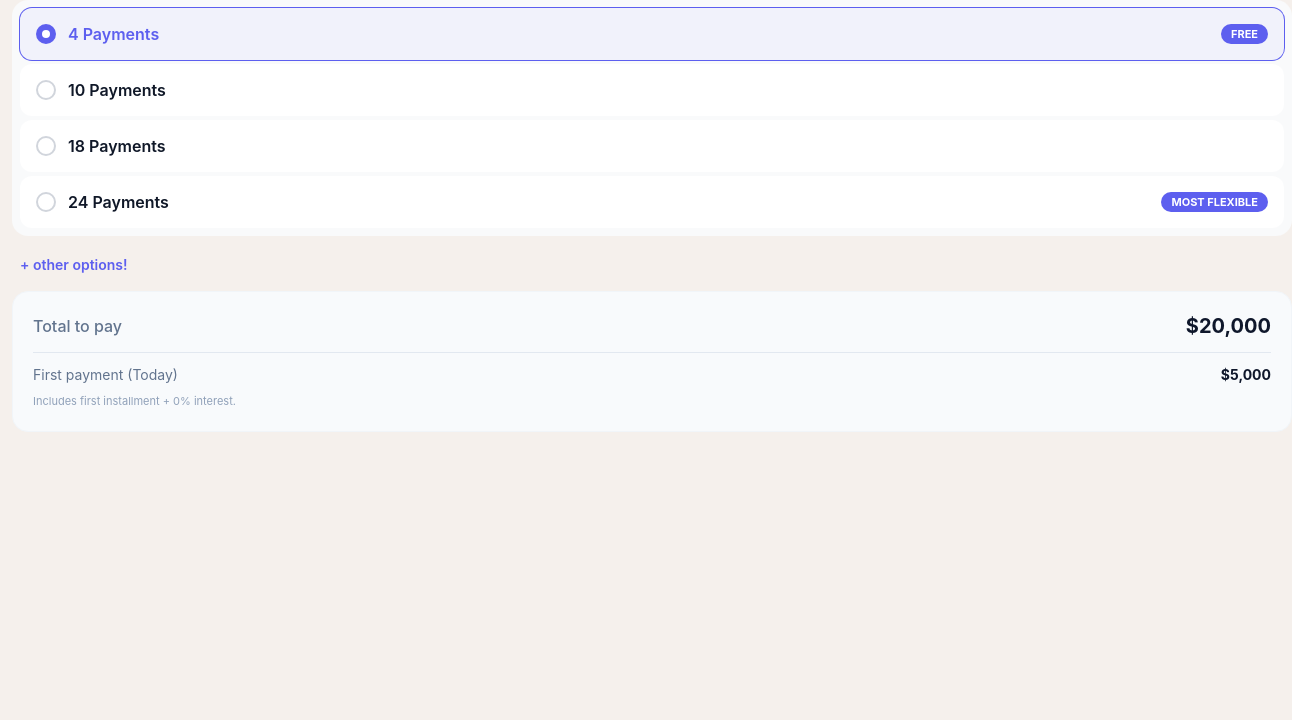
PlanSelector Component › shows secondary terms after clicking "+ other options!"
Click the button with test id "expand-other-options": (70, 265) [12, 255, 128, 275]
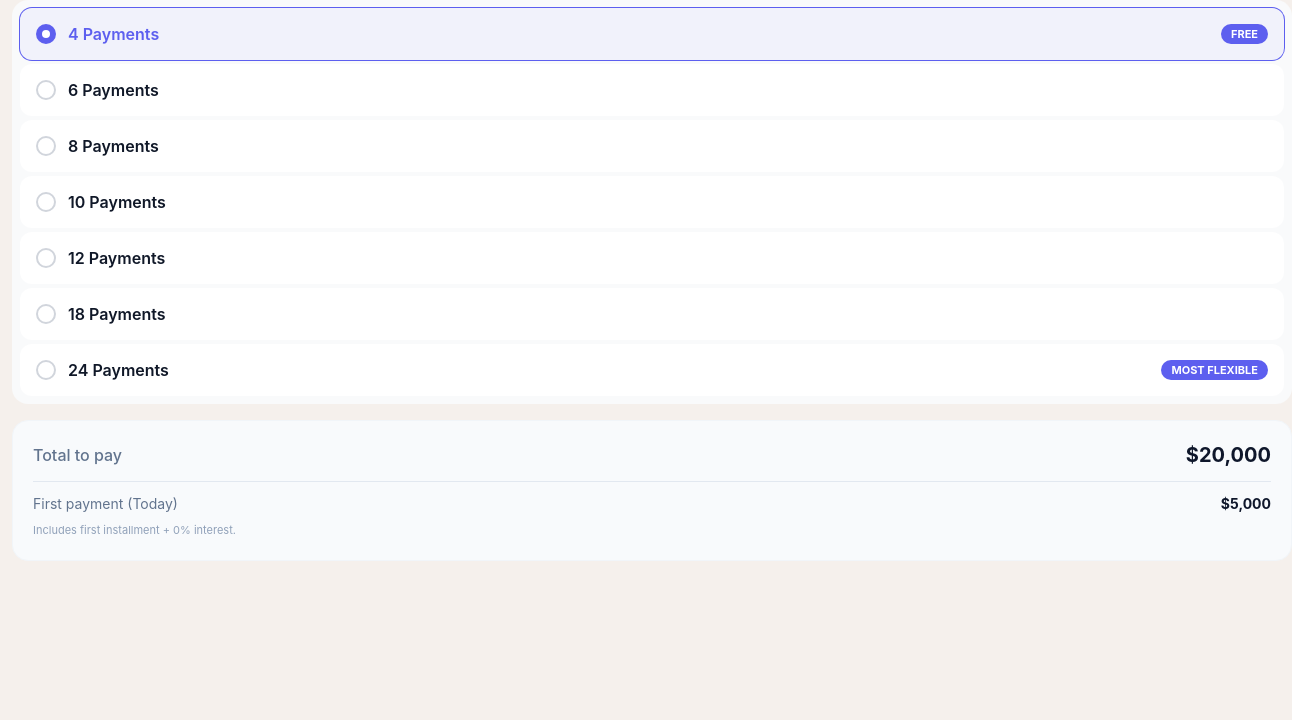
Check: the button with test id "plan-option-6" is shown, box [20, 64, 1284, 116]
Check: the button with test id "plan-option-8" is shown, box [20, 120, 1284, 172]
Check: the button with test id "plan-option-12" is shown, box [20, 232, 1284, 284]
